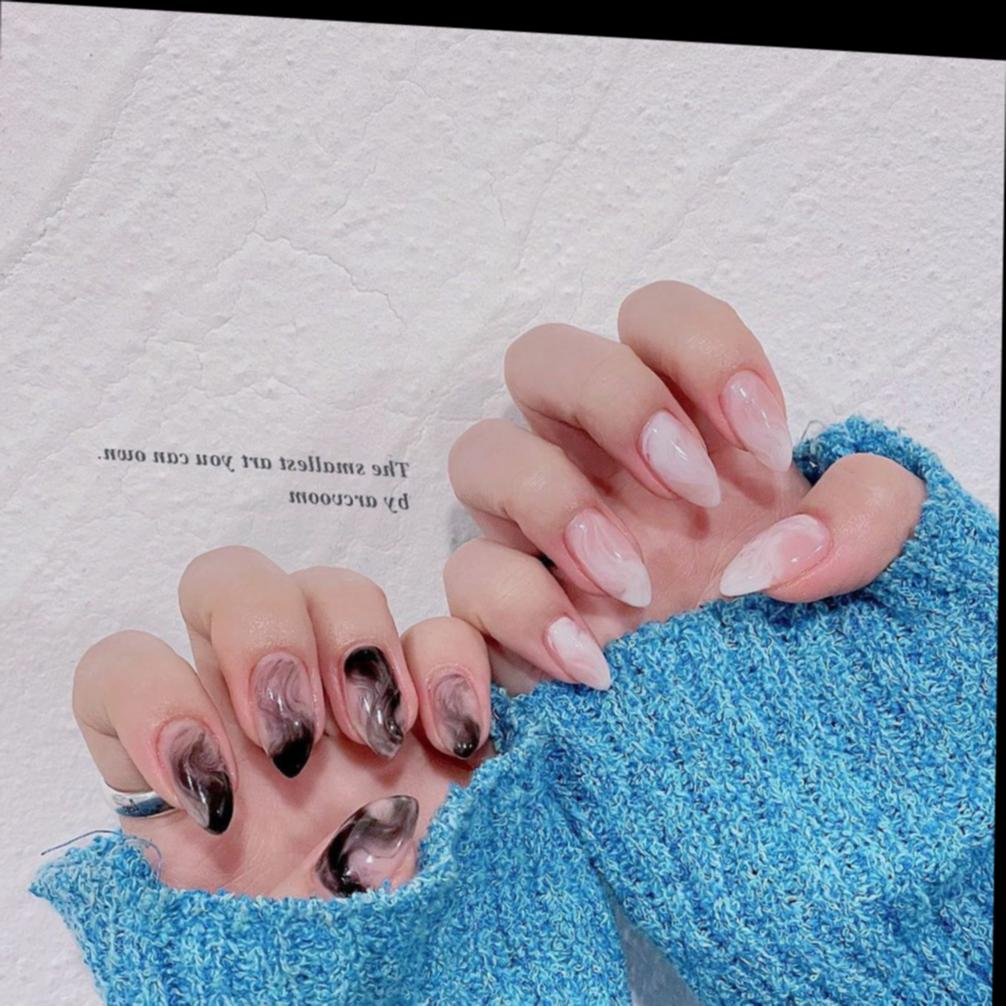nail: (718, 505, 832, 604), (563, 504, 654, 608), (638, 405, 723, 508), (719, 364, 795, 471), (424, 663, 487, 759), (542, 612, 613, 691)
